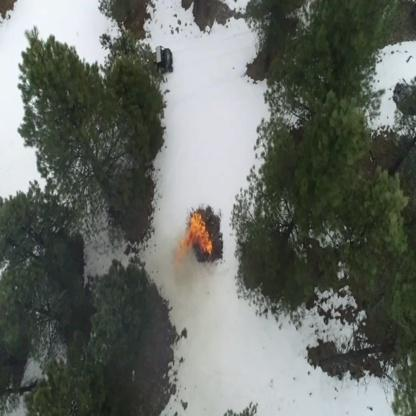Fire: (177, 210, 213, 260)
